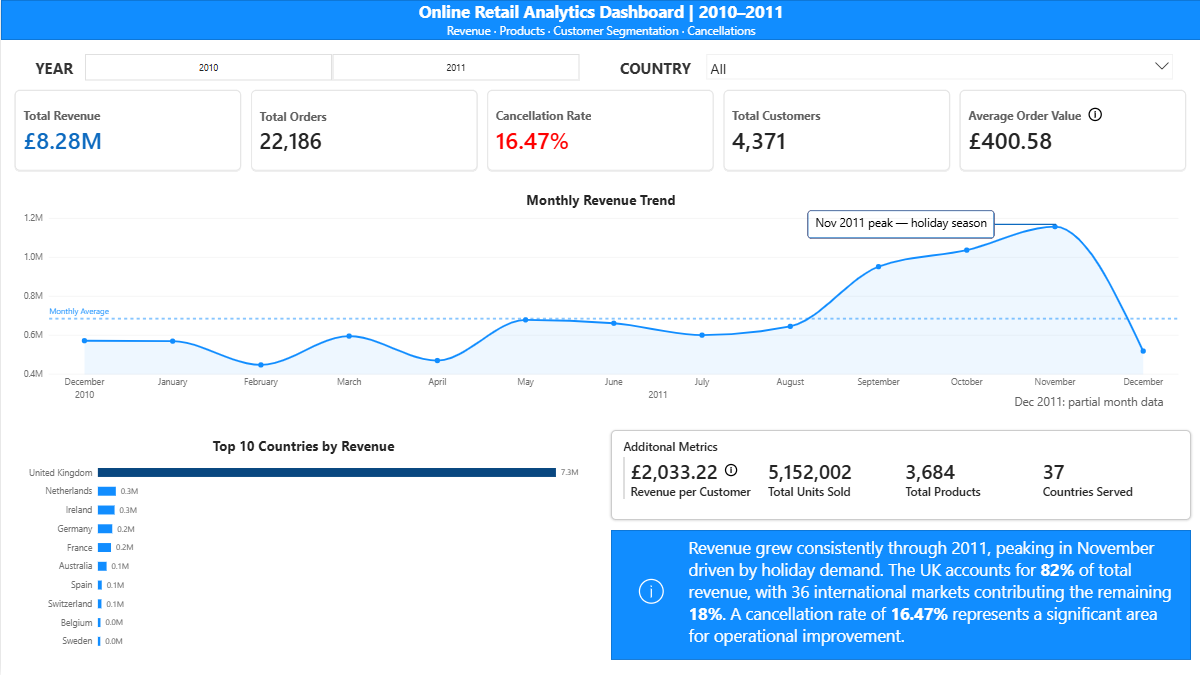

The page's visual inventory and layout, read from the dashboard file:
{"tool":"powerbi","page":{"name":"Executive Summary","canvas":[1920,1080],"ordinal":0},"visuals":[{"type":"shape","box":[0,0,1920,64],"z":0},{"type":"shape","box":[19.6,74.2,1880.2,65.2],"z":0,"group":"g1"},{"type":"shape","box":[1589.7,336.9,98,46],"z":0,"group":"g2"},{"type":"shape","box":[976,848.3,928,207.7],"z":0,"group":"g3"},{"type":"slicer","fields":{"Values":["OnlineRetail.Year"]},"box":[109.7,81.4,838,52],"z":1000,"group":"g1"},{"type":"cardVisual","fields":{"Data":["OnlineRetail.Total Revenue","OnlineRetail.Total Orders","OnlineRetail.Cancellation Percentage","OnlineRetail.Total Customers","_Measures.Avg Order Value"]},"box":[19.6,141.8,1880.7,133.1],"z":1000},{"type":"shape","box":[1289.7,336.9,300,46],"z":1000,"group":"g2"},{"type":"textbox","box":[1099.1,848,785,201.4],"z":1000,"group":"g3"},{"type":"slicer","title":"Country:","fields":{"Values":["OnlineRetail.Country"]},"box":[1123.7,81.4,756,62],"z":2000,"group":"g1"},{"type":"lineChart","title":"Monthly Revenue Trend","fields":{"Category":["OnlineRetail.Year","OnlineRetail.Month Name"],"Y":["_Measures.Gross Revenue"]},"box":[20,290,1880,376],"z":2000},{"type":"textbox","box":[1289.7,336.9,300,46],"z":2000,"group":"g2"},{"type":"actionButton","box":[990,893.5,100.3,105],"z":2000,"group":"g3"},{"type":"textbox","box":[51.7,91.4,70,40],"z":3000,"group":"g1"},{"type":"barChart","title":"Top 10 Countries by Revenue","fields":{"Category":["OnlineRetail.Country"],"Y":["_Measures.Gross Revenue"]},"box":[20,684,928,378],"z":3000},{"type":"textbox","box":[983.7,91.4,126,42],"z":4000,"group":"g1"},{"type":"multiRowCard","title":"Additonal Metrics","fields":{"Values":["OnlineRetail.Revenue per Customer","OnlineRetail.Total Quantity Sold","OnlineRetail.Total Products","OnlineRetail.Country"]},"box":[976,688,928,144],"z":4000},{"type":"group","id":"g1","title":"Slicer Bar","box":[19.6,74.2,1880.7,67.6],"z":5000},{"type":"group","id":"g2","title":"Annotation Box","box":[1289.7,336.9,398.5,45.3],"z":6000},{"type":"group","id":"g3","title":"Insight Box","box":[976,848,928,208],"z":7000},{"type":"textbox","box":[59.8,0,1800.5,63.4],"z":8000},{"type":"textbox","box":[1228,630,632,36],"z":9000},{"type":"actionButton","box":[1720,158,62,50],"z":10000},{"type":"actionButton","box":[1136,720,64,64],"z":11000}]}

Visuals, with their boxes in screenshot pixels (x1, y1, x2, y2), scaled from the page's 1920x1080 canvas onto the 1200x675 screenshot:
shape: {"x1": 0, "y1": 0, "x2": 1199, "y2": 40}
shape: {"x1": 12, "y1": 46, "x2": 1187, "y2": 87}
shape: {"x1": 994, "y1": 211, "x2": 1055, "y2": 239}
shape: {"x1": 610, "y1": 530, "x2": 1190, "y2": 660}
slicer - OnlineRetail.Year: {"x1": 69, "y1": 51, "x2": 592, "y2": 83}
cardVisual - OnlineRetail.Total Revenue x OnlineRetail.Total Orders: {"x1": 12, "y1": 89, "x2": 1188, "y2": 172}
shape: {"x1": 806, "y1": 211, "x2": 994, "y2": 239}
textbox: {"x1": 687, "y1": 530, "x2": 1178, "y2": 656}
"Country:" slicer: {"x1": 702, "y1": 51, "x2": 1175, "y2": 90}
"Monthly Revenue Trend" lineChart: {"x1": 12, "y1": 181, "x2": 1188, "y2": 416}
textbox: {"x1": 806, "y1": 211, "x2": 994, "y2": 239}
actionButton: {"x1": 619, "y1": 558, "x2": 681, "y2": 624}
textbox: {"x1": 32, "y1": 57, "x2": 76, "y2": 82}
"Top 10 Countries by Revenue" barChart: {"x1": 12, "y1": 428, "x2": 592, "y2": 664}
textbox: {"x1": 615, "y1": 57, "x2": 694, "y2": 83}
"Additonal Metrics" multiRowCard: {"x1": 610, "y1": 430, "x2": 1190, "y2": 520}
"Slicer Bar" group: {"x1": 12, "y1": 46, "x2": 1188, "y2": 89}
"Annotation Box" group: {"x1": 806, "y1": 211, "x2": 1055, "y2": 239}
"Insight Box" group: {"x1": 610, "y1": 530, "x2": 1190, "y2": 660}
textbox: {"x1": 37, "y1": 0, "x2": 1163, "y2": 40}
textbox: {"x1": 768, "y1": 394, "x2": 1162, "y2": 416}
actionButton: {"x1": 1075, "y1": 99, "x2": 1114, "y2": 130}
actionButton: {"x1": 710, "y1": 450, "x2": 750, "y2": 490}
